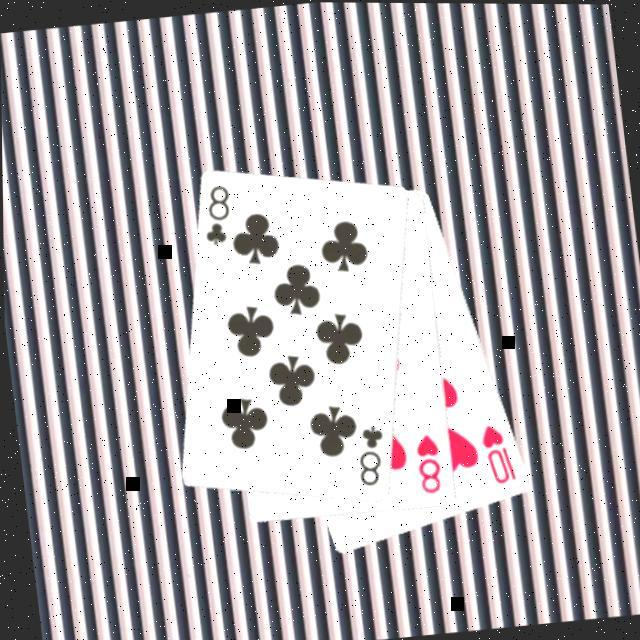10H: (473, 417, 517, 486)
8C: (193, 178, 236, 247), (347, 419, 389, 488)
8H: (407, 428, 443, 496)
